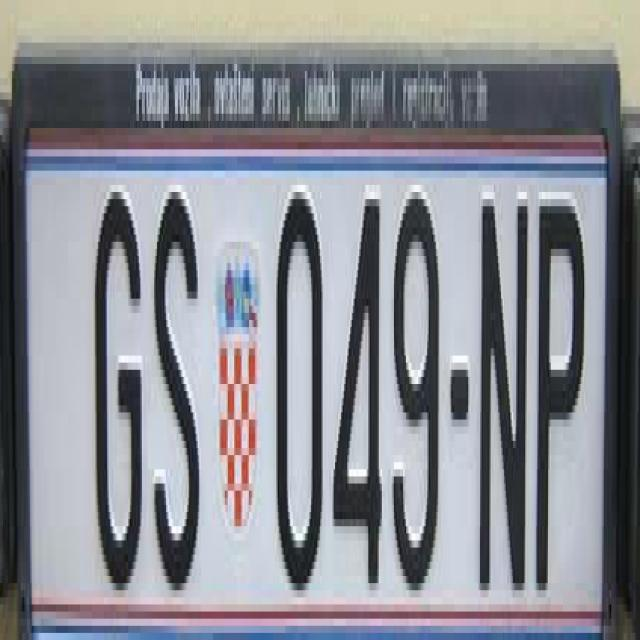Autre: (26, 124, 606, 622)
